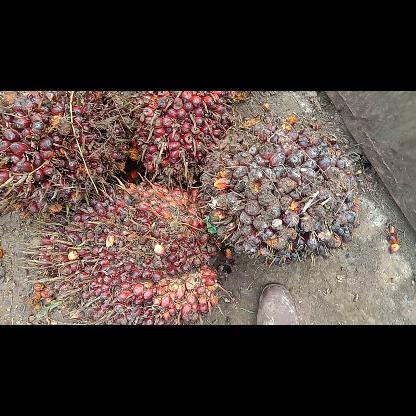Kurang masak: (196, 111, 366, 269)
TBS masak: (20, 172, 226, 324), (0, 91, 131, 224), (124, 90, 248, 188)
